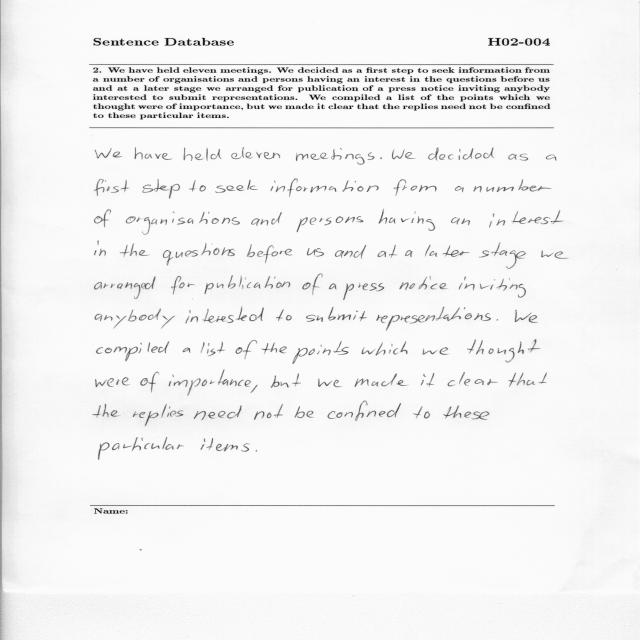word: (376, 307, 491, 331), (126, 212, 240, 235), (169, 370, 251, 396), (98, 437, 184, 460), (271, 179, 379, 197), (467, 340, 540, 363), (163, 243, 235, 266), (205, 275, 290, 294), (95, 309, 175, 329), (328, 401, 402, 421), (459, 276, 526, 298), (97, 342, 170, 362), (95, 276, 156, 299), (185, 307, 264, 324), (489, 210, 563, 228), (296, 148, 374, 165), (293, 341, 349, 364), (479, 242, 526, 269), (379, 209, 436, 231), (133, 404, 184, 426), (297, 216, 364, 232), (473, 179, 551, 192), (306, 307, 367, 322), (428, 148, 494, 161), (247, 244, 292, 263), (355, 373, 409, 387), (394, 179, 437, 196), (142, 179, 180, 198), (194, 406, 242, 421), (343, 283, 385, 300), (443, 405, 490, 420), (448, 372, 498, 386), (200, 438, 250, 452), (362, 341, 408, 356), (399, 276, 448, 290), (215, 179, 258, 193), (95, 179, 130, 196), (231, 147, 280, 159), (508, 373, 547, 387), (426, 245, 470, 257), (184, 148, 222, 161), (135, 147, 172, 160), (254, 404, 283, 420), (171, 276, 195, 295), (271, 373, 301, 388), (302, 274, 323, 295), (251, 212, 282, 226), (120, 243, 149, 257), (335, 245, 366, 258), (236, 340, 257, 359), (140, 372, 159, 393), (93, 404, 121, 418), (96, 377, 130, 387), (201, 342, 225, 356), (515, 310, 538, 323), (95, 210, 111, 228), (261, 343, 287, 354), (95, 148, 122, 158), (378, 245, 397, 258), (541, 250, 568, 259), (392, 150, 415, 160), (295, 406, 314, 418), (413, 406, 430, 419), (423, 347, 449, 355), (189, 180, 206, 192), (276, 310, 292, 322), (318, 379, 342, 387), (421, 373, 434, 387), (451, 217, 470, 226), (95, 241, 106, 256), (509, 154, 529, 161), (307, 248, 324, 256), (546, 155, 557, 161), (405, 250, 413, 257), (251, 385, 258, 393), (455, 186, 464, 192), (329, 284, 337, 290), (182, 348, 191, 353), (380, 157, 382, 159), (496, 319, 498, 321), (255, 450, 257, 452)
